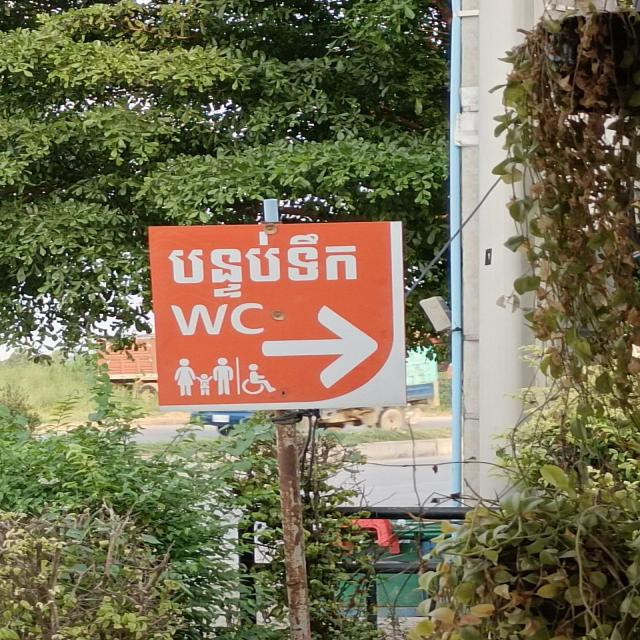Yolov11kh: (165, 227, 369, 302)
